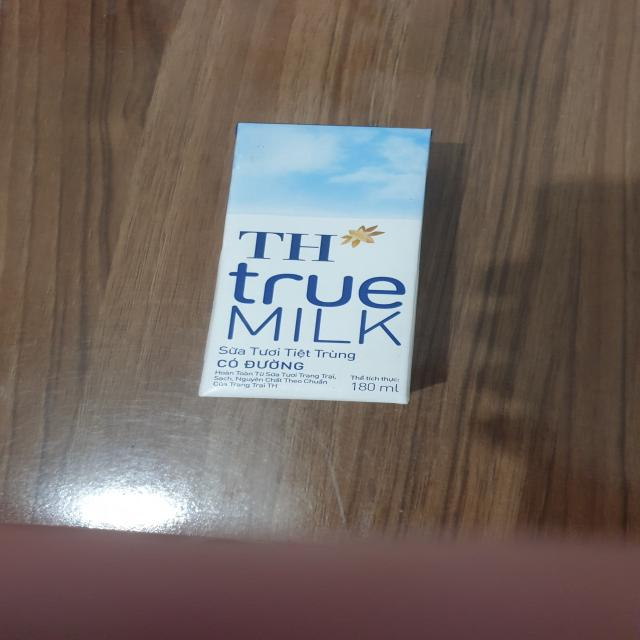TH: (194, 122, 437, 407)
